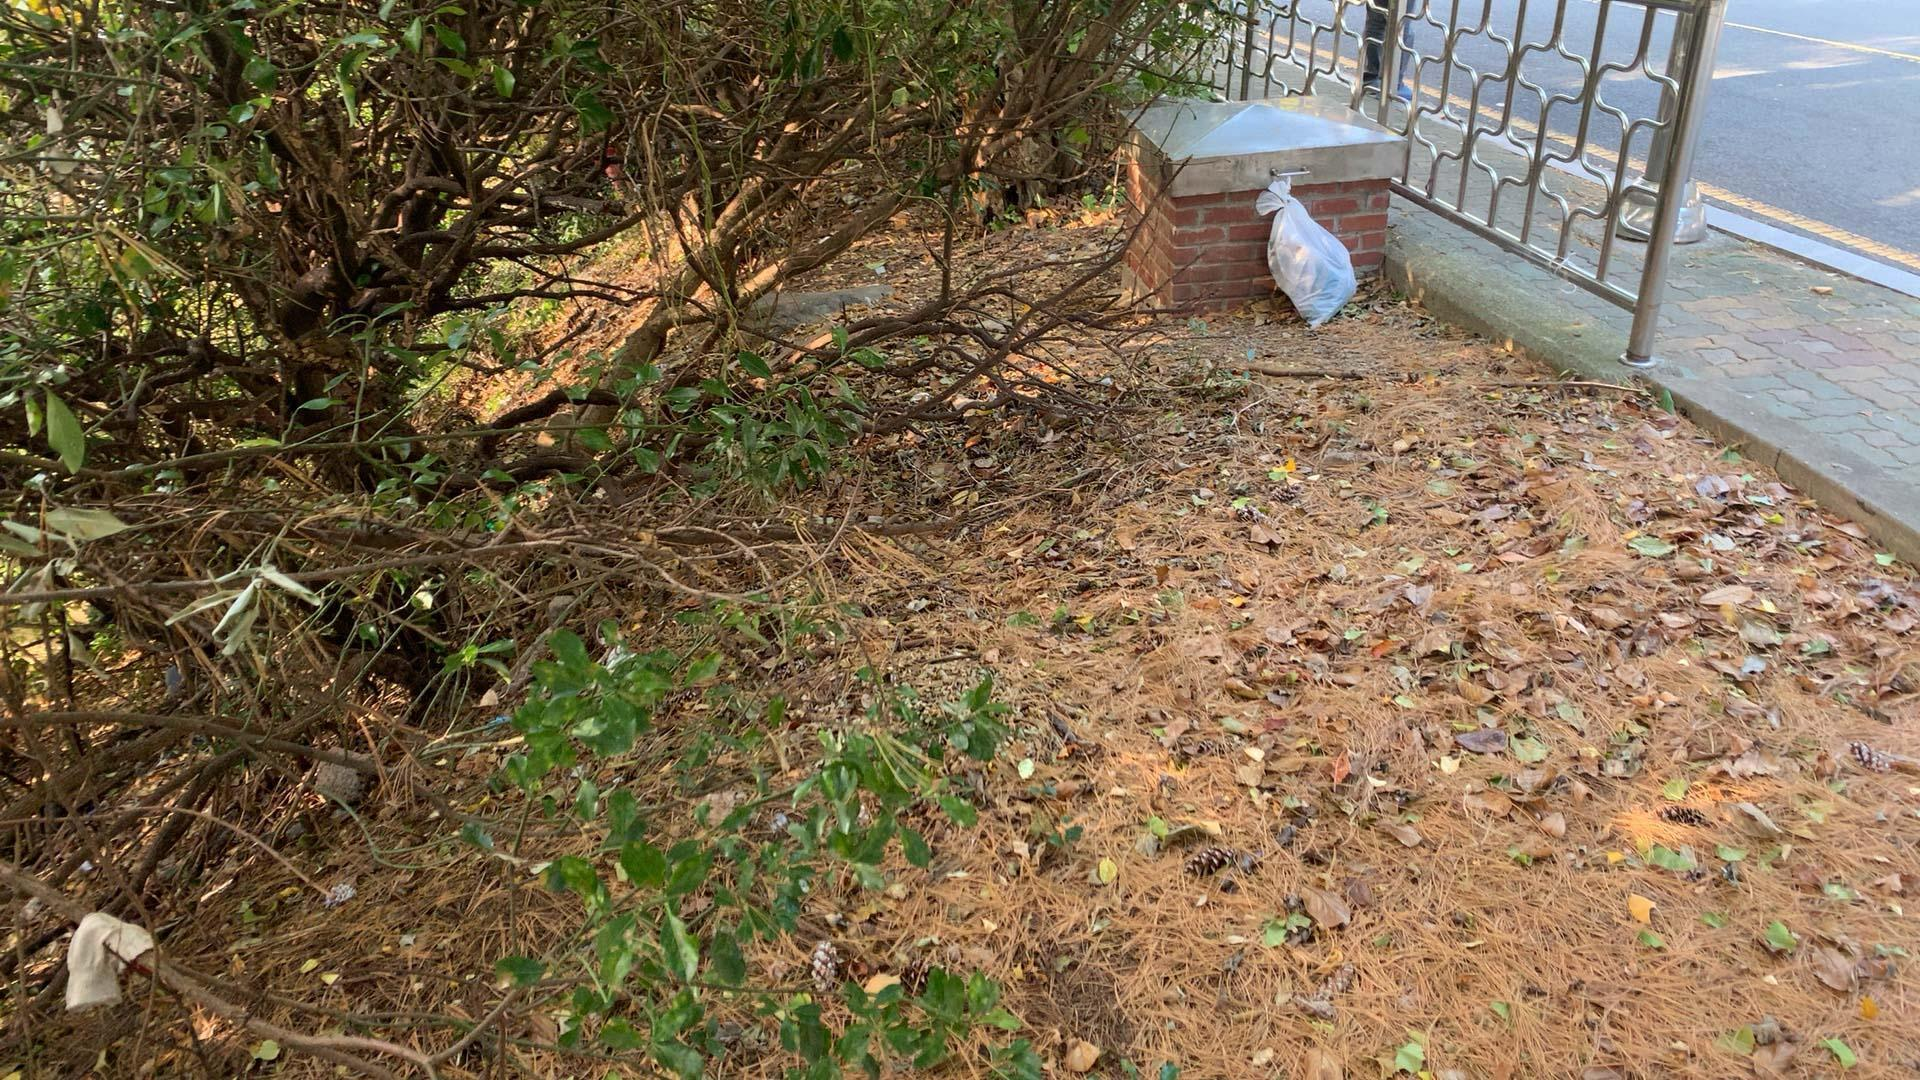white_bag: (1247, 167, 1374, 345)
